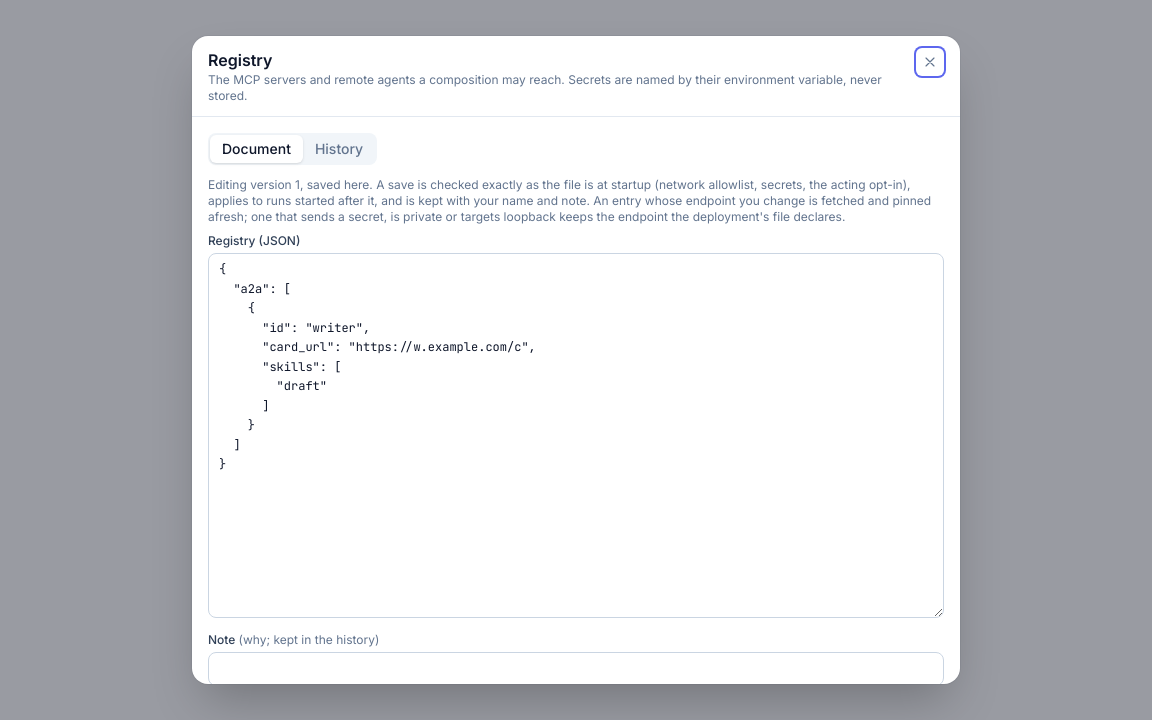
RegistryDialog › lists saved versions with who, why and what changed, and shows one
This screenshot has width=1152, height=720.
Click the tab "History".
click(339, 149)  # box [303,135,375,163]
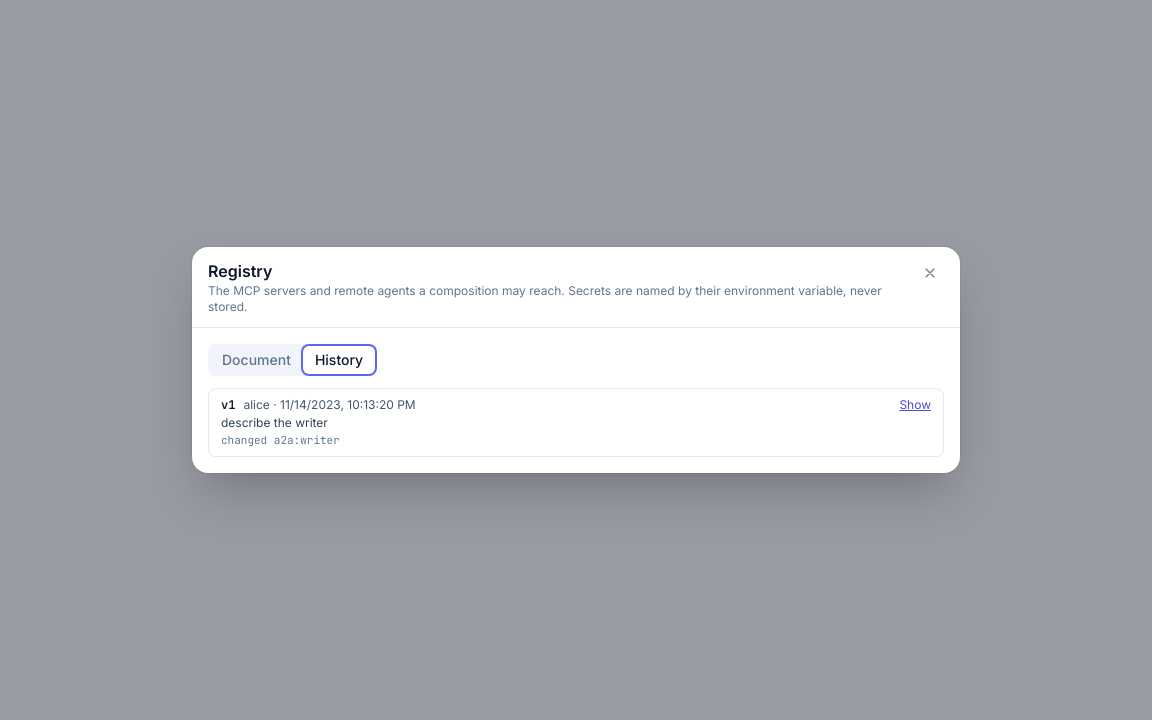
Expected: the text "describe the writer" is shown, [221,415,328,430]
Expected: the text "changed a2a:writer" is shown, [221,433,340,447]
Click the button with aria-label "Show version 1".
click(915, 405)  # box [899,397,931,413]
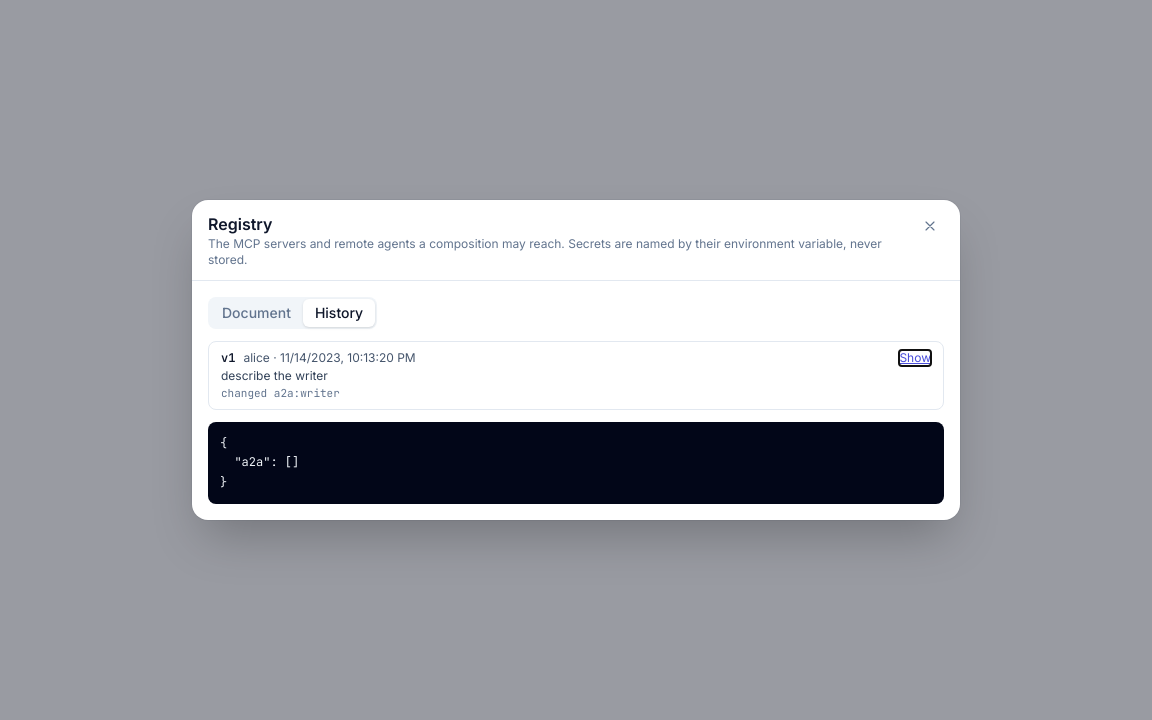
Expected: the text named "Registry version 1" shows "\"a2a\": []", [220,435,299,490]
